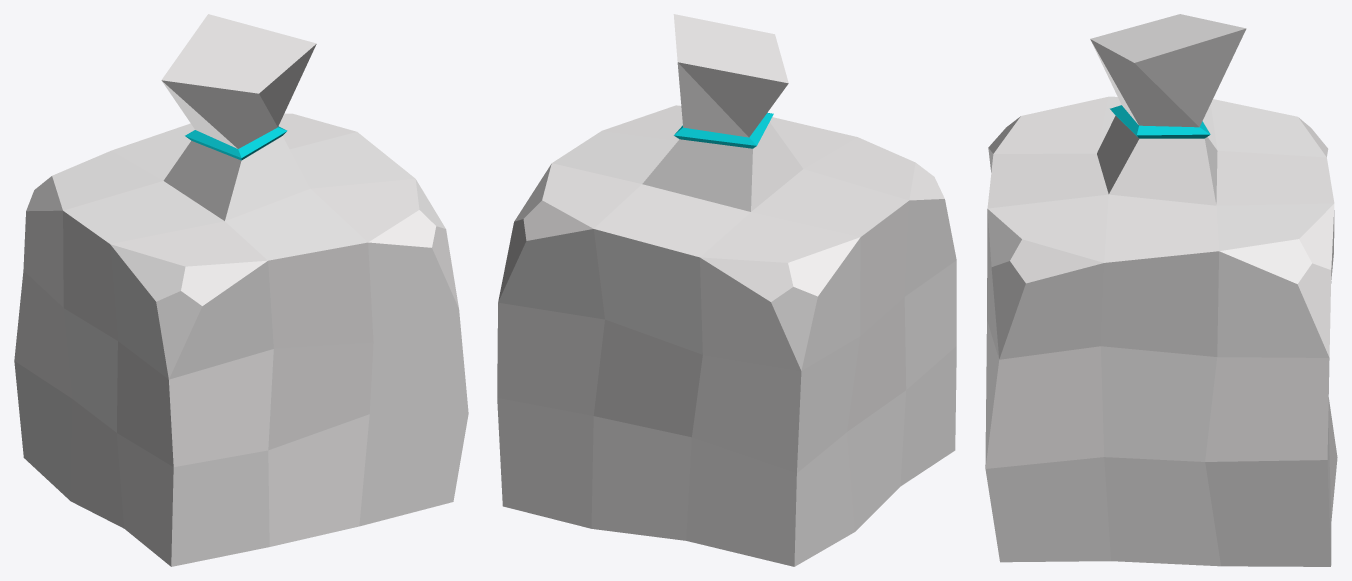
File: WallGondola1_Bread.fbx
The picture shows the model from 3 angles, left to right: view 1: azimuth 30°, elevation 25°; view 2: azimuth 150°, elevation 25°; view 3: azimuth 270°, elevation 25°; orthographic projection. The views are drawn at different scales.
Visible parts, largest first — view 1: Bread; view 2: Bread; view 3: Bread.
Part boxes in pixels (x1,y1,x2,y2): Bread: (14, 14, 468, 566); Bread: (497, 14, 956, 566); Bread: (985, 14, 1337, 566).
Size of the model in its own units: 1128 by 1532 by 1038.
